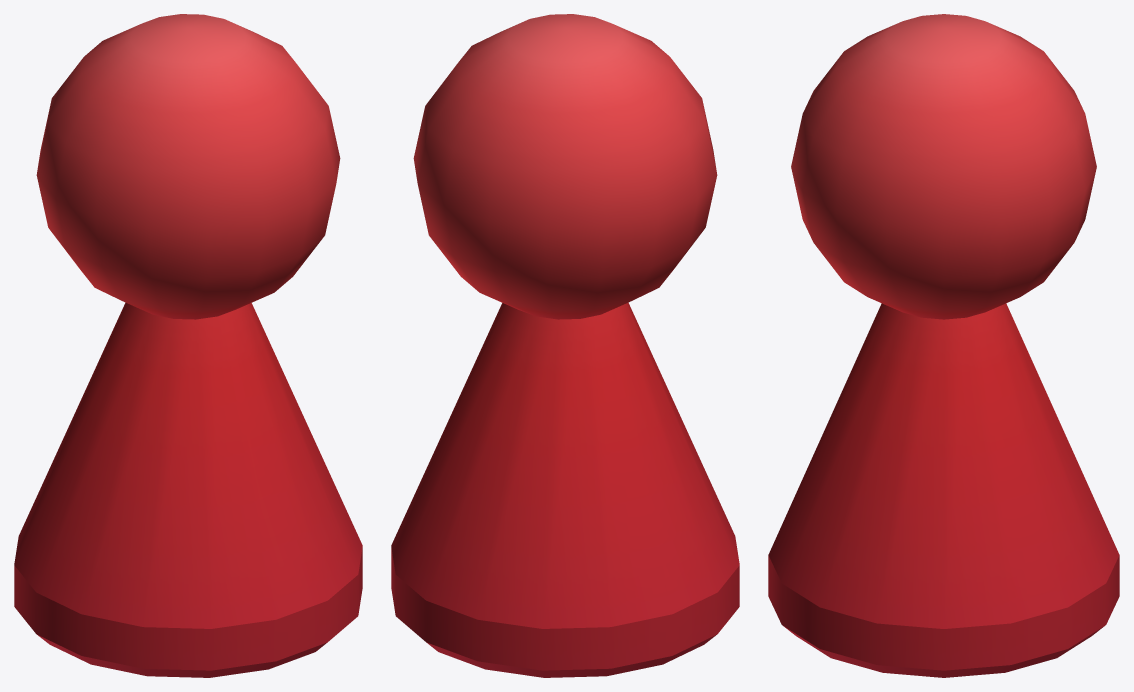
Rendered from pawn_A_red.obj.
The picture shows the model from 3 angles, left to right: view 1: azimuth 30°, elevation 25°; view 2: azimuth 150°, elevation 25°; view 3: azimuth 270°, elevation 25°; orthographic projection.
Parts seen in each view (by area): view 1: pawn_A_red; view 2: pawn_A_red; view 3: pawn_A_red.
Boxes of the visible parts, left/top/right/bottom form: pawn_A_red: left=14, top=14, right=362, bottom=677; pawn_A_red: left=391, top=14, right=739, bottom=677; pawn_A_red: left=768, top=14, right=1119, bottom=677.
Bounding box in the file's own units: 0.5 × 0.9146 × 0.5.
Materials: 1 (1 with a texture image).
